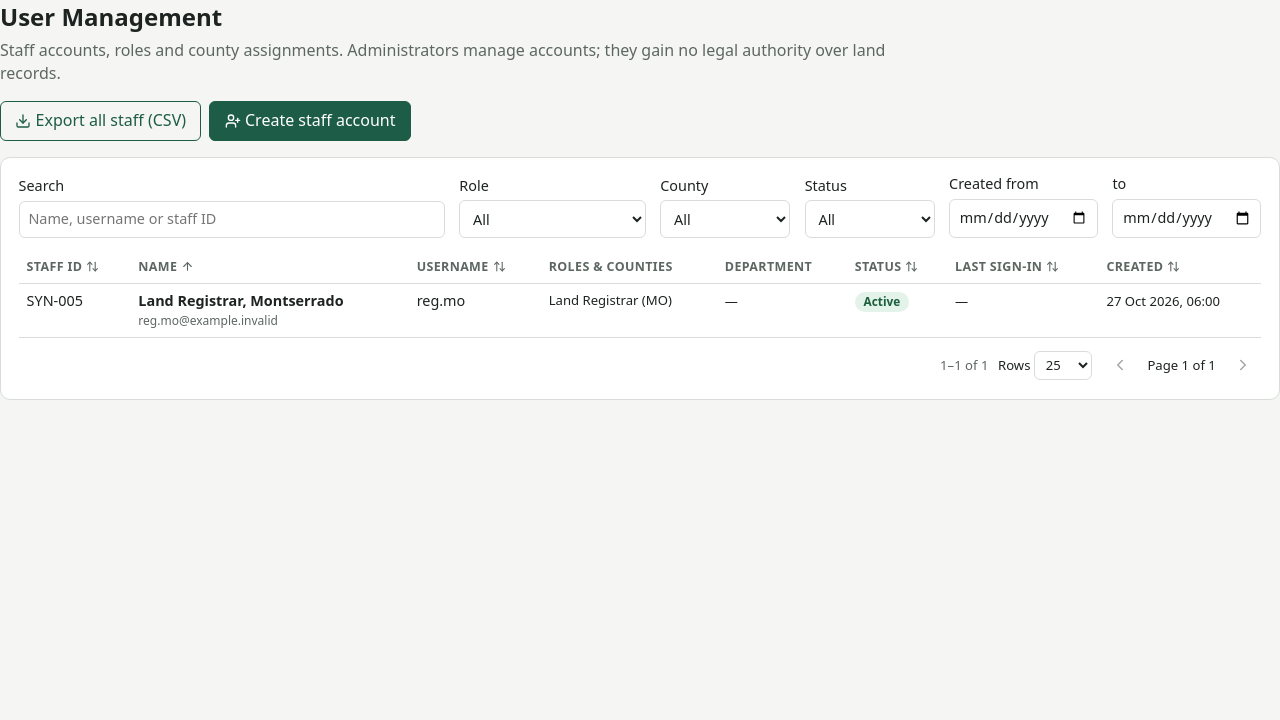
Test: User management › refuses to create a registrar without a county, before contacting the server
This screenshot has width=1280, height=720.
Click the button "Create staff account" at (310, 121), box [210,101,411,141]
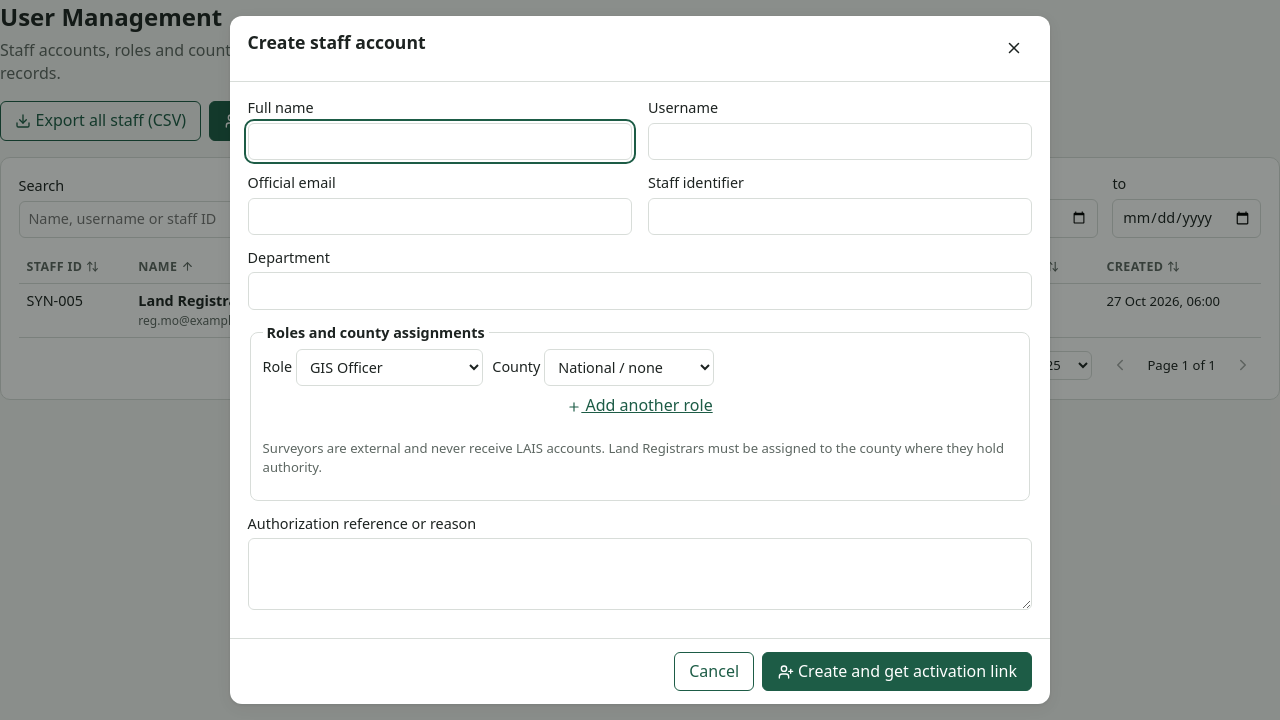
Type "Deddeh Testperson" into the field labelled "Full name" at (440, 141), box [248,123,632,160]
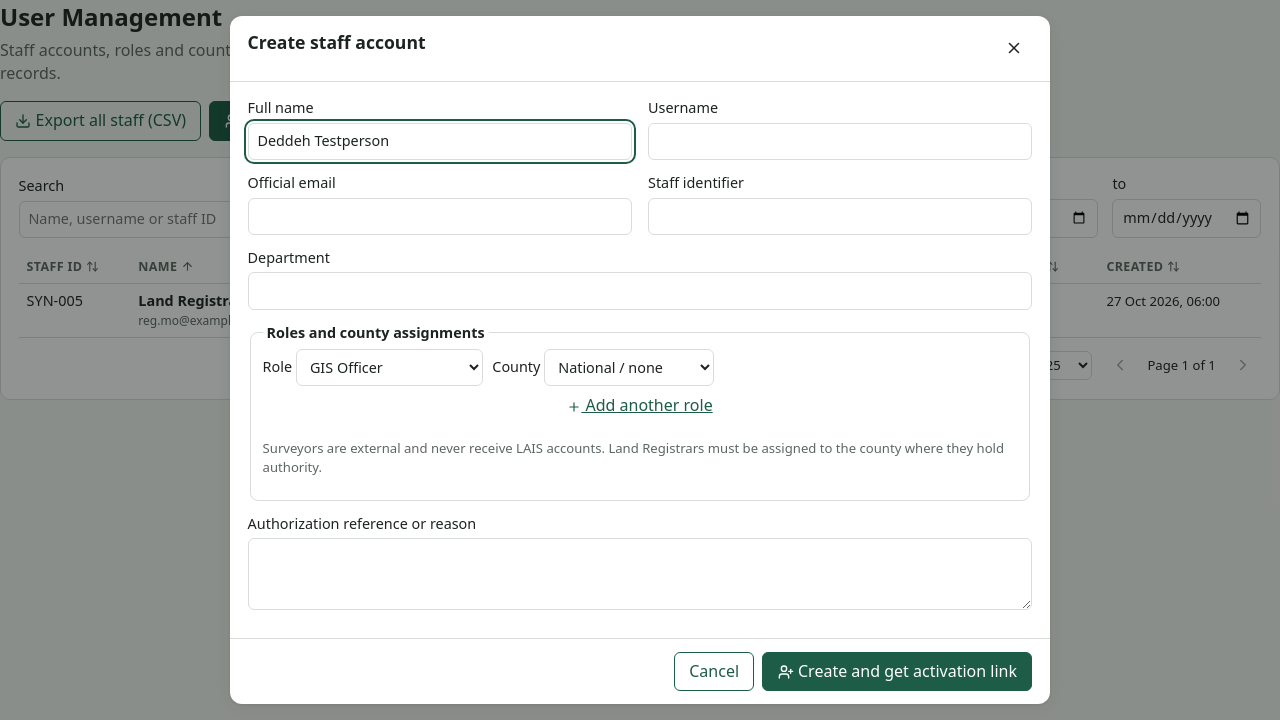
Type "reg2.mo" into the field labelled "Username" at (840, 141), box [648,123,1032,160]
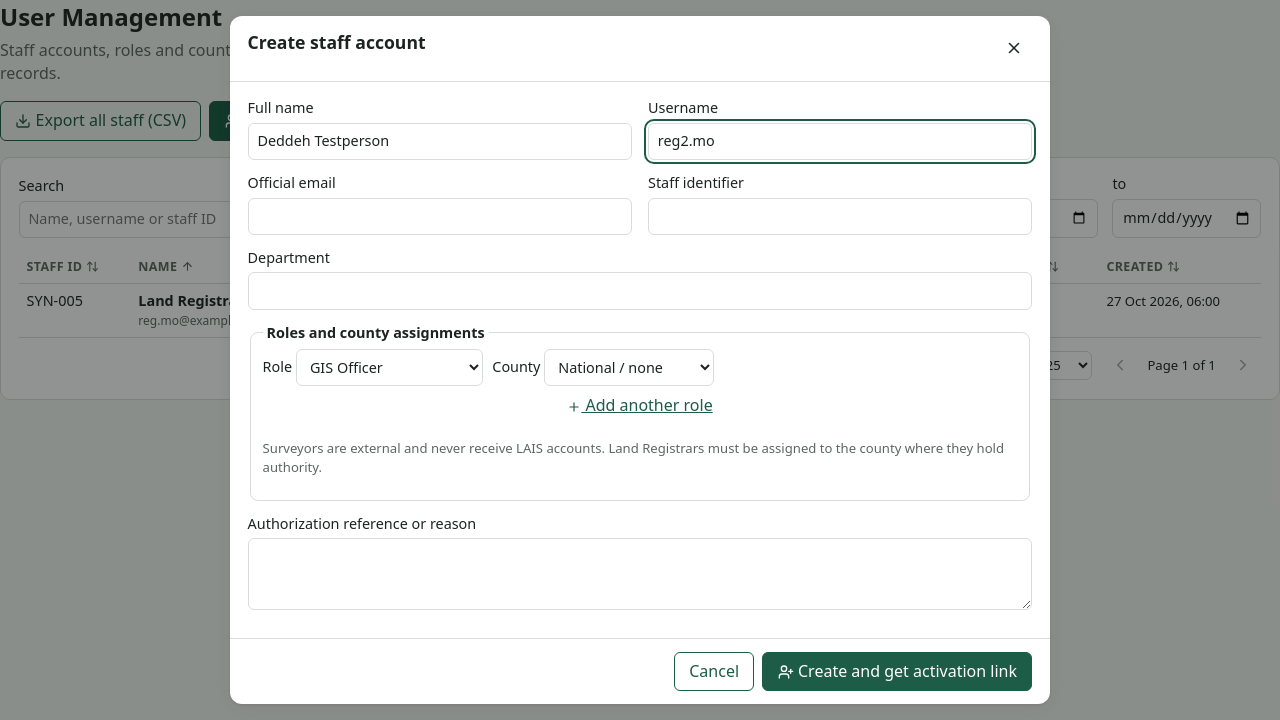
Type "SYNTHETIC delegation DI-1" into the text box labelled "Authorization reference or reason" at (640, 574), box [248,538,1032,610]
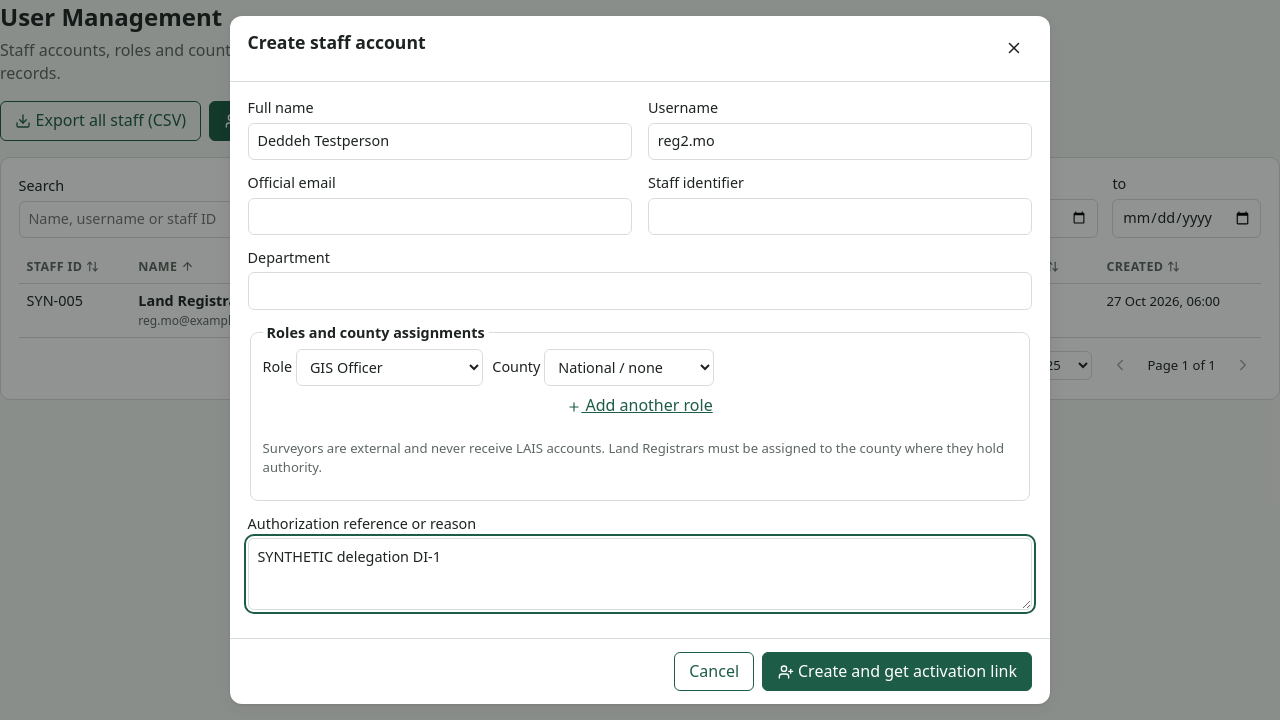
Select "Land Registrar" in the dropdown labelled "Role" at (389, 368), box [296,349,483,386]
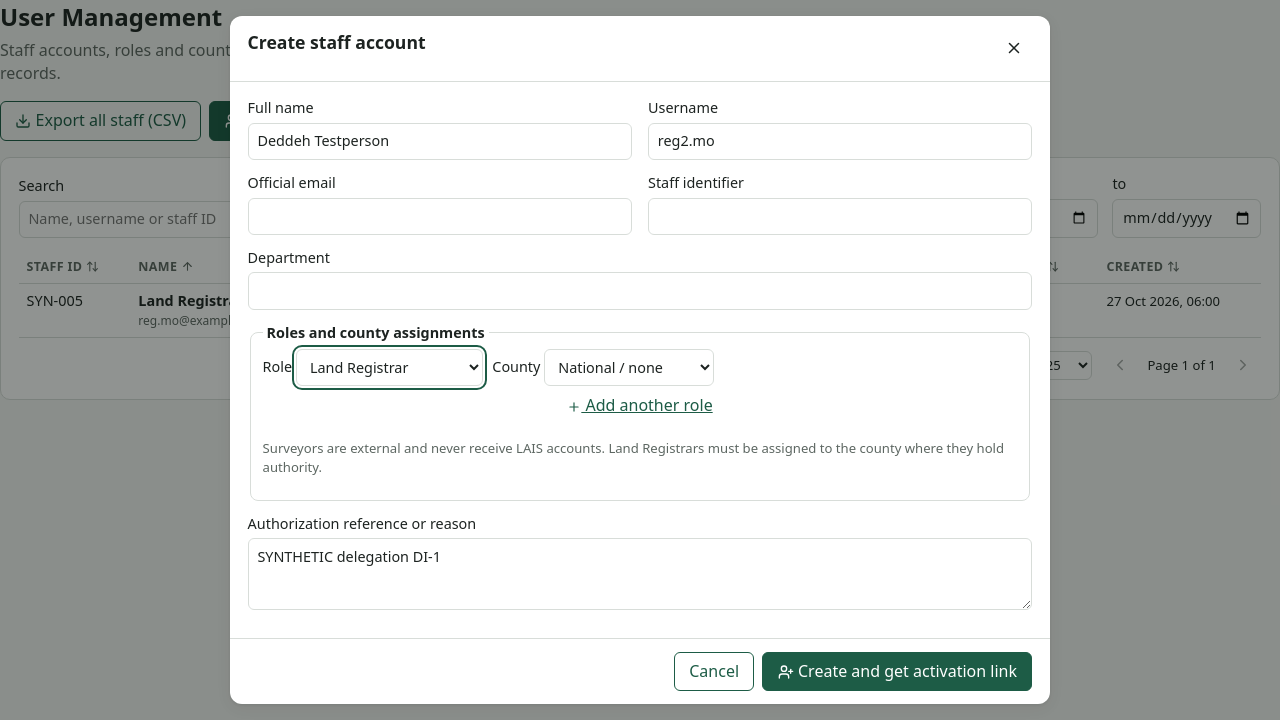
Click the button "Create and get activation link" at (898, 671), box [762,652,1032,691]
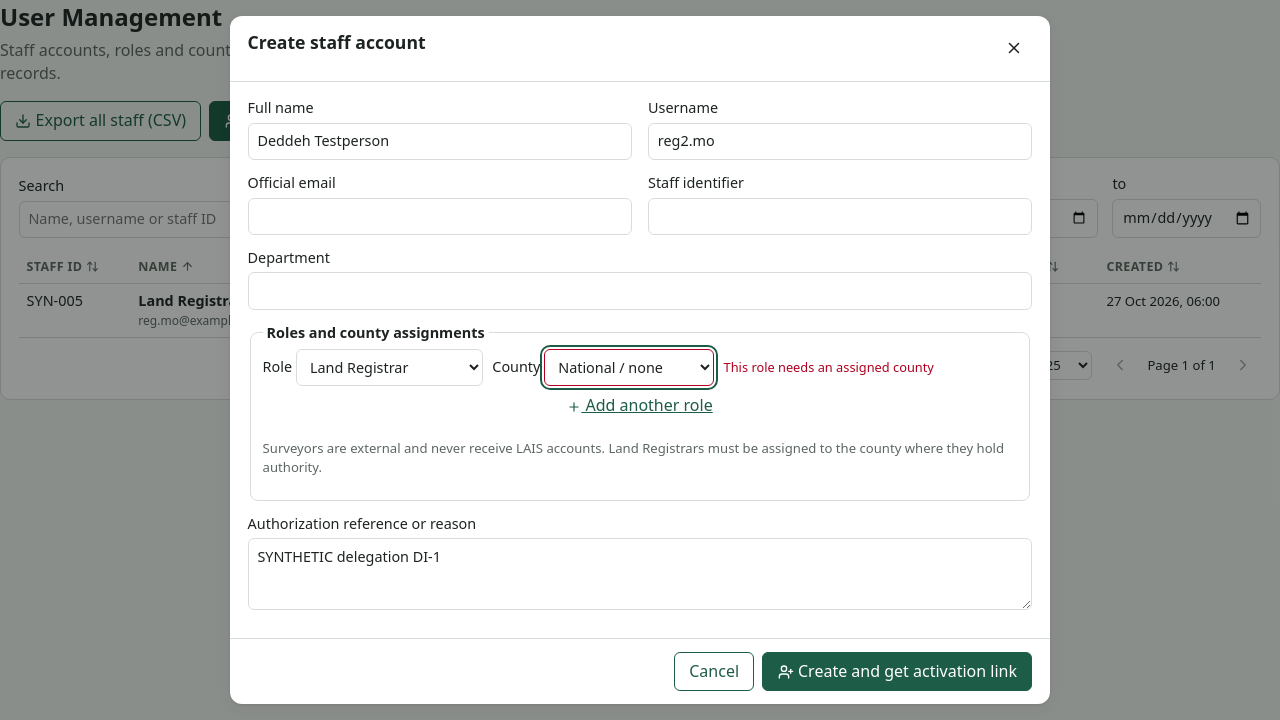
Result: the text "This role needs an assigned county" is shown at [724,358,934,377]
